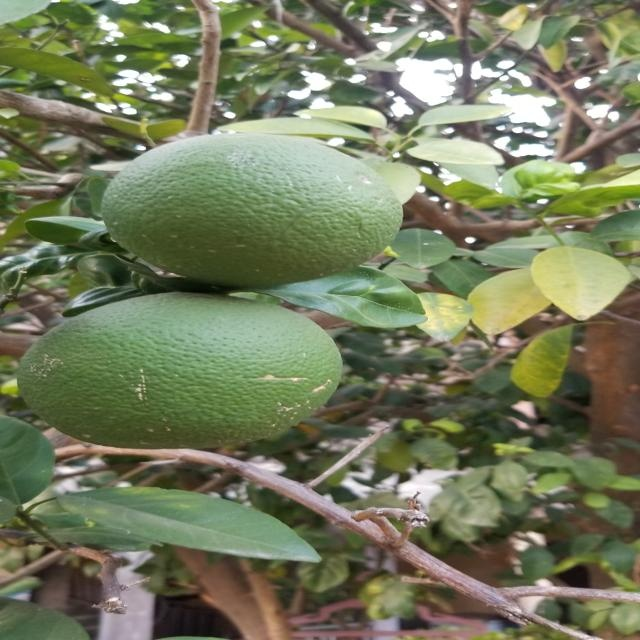agrume: (23, 285, 353, 455), (95, 132, 395, 284)
